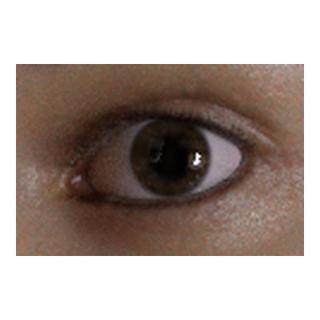pupil: (151, 138, 188, 175)
